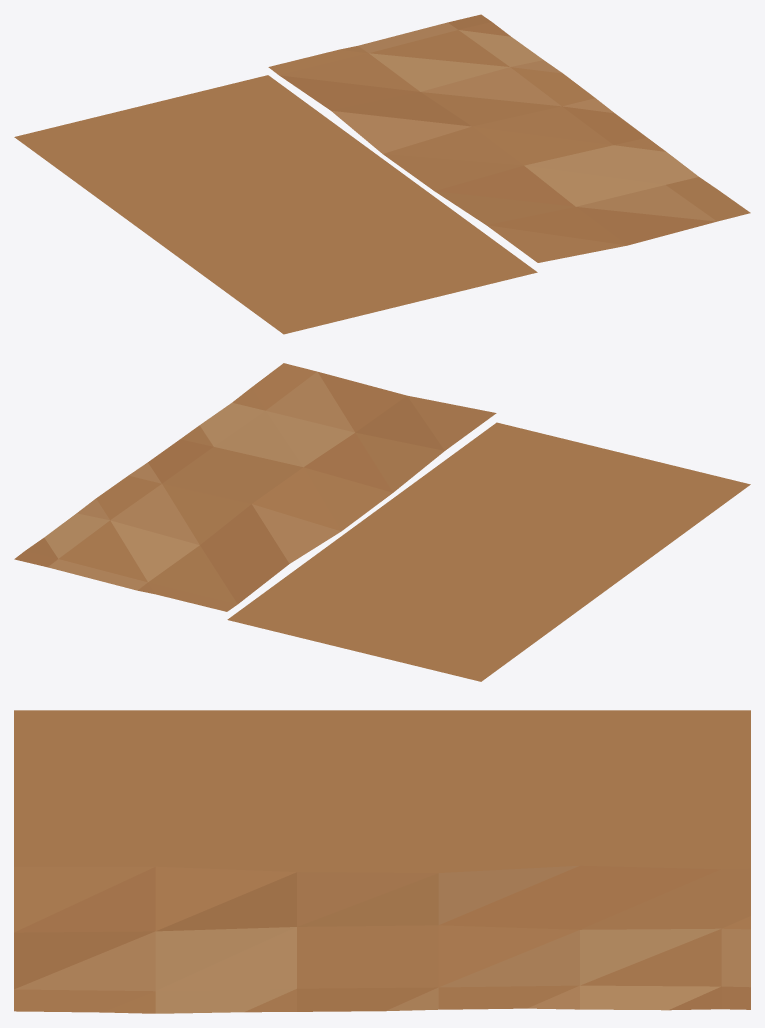
3 views of the same model, one above another, from view 1: azimuth 30°, elevation 25°; view 2: azimuth 150°, elevation 25°; view 3: azimuth 270°, elevation 25° (orthographic). The views are drawn at different scales.
Visible parts, largest first — view 1: baked; view 2: baked; view 3: baked.
Part boxes in pixels (x1=…): baked: x1=14, y1=14, x2=750, y2=334; baked: x1=14, y1=363, x2=750, y2=681; baked: x1=14, y1=710, x2=750, y2=1013.
Size of the model in its own units: 62.5 by 1.32 by 62.5.
